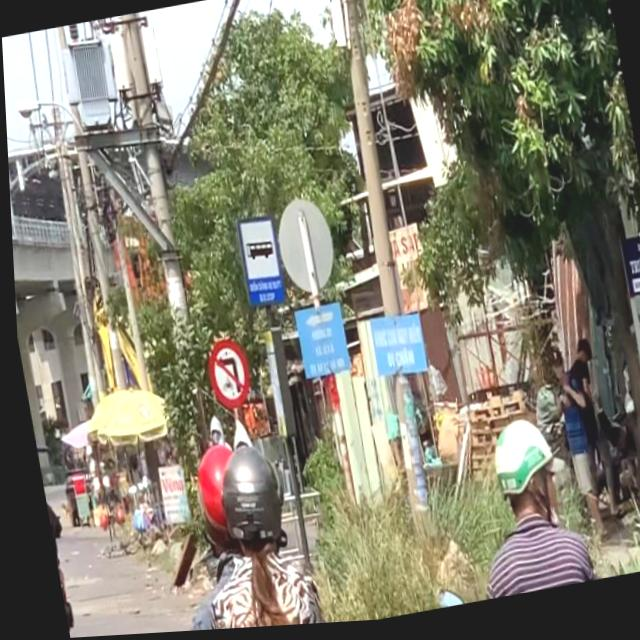Ben xe buyt: (231, 214, 284, 313)
